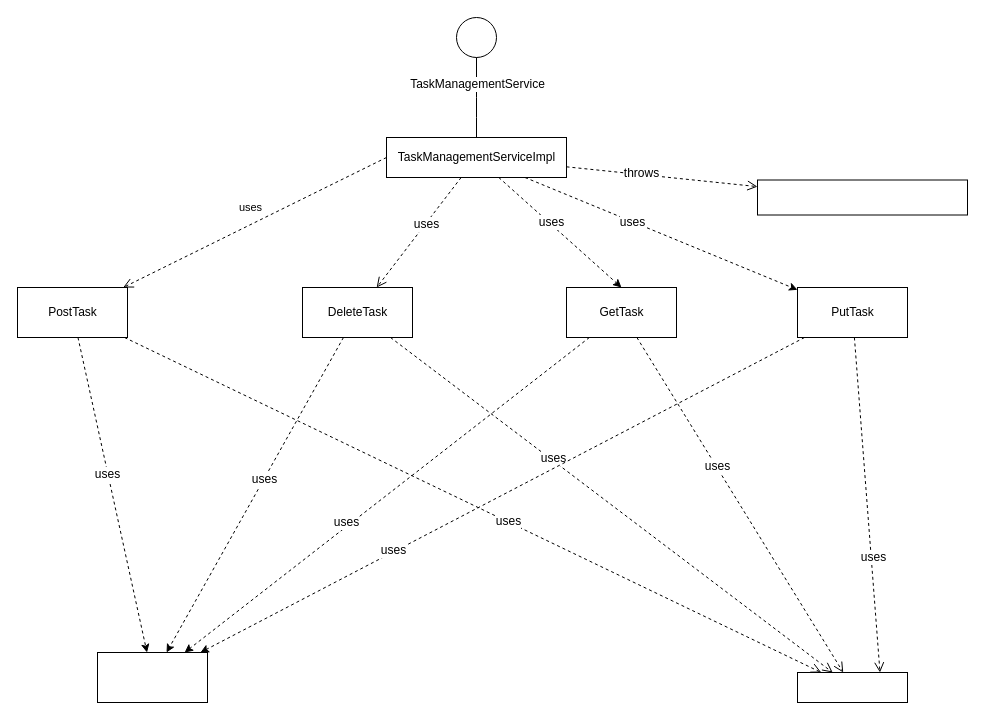
Some shapes in this 985 by 720 pixel diagram are drawn without their labels. The shapes that lost their labels are listed below. From the top down, each one's centre as x and y in pixels, then its label:
(862,197): TaskNotFoundException
(152,677): DataBase
(852,687): Task
